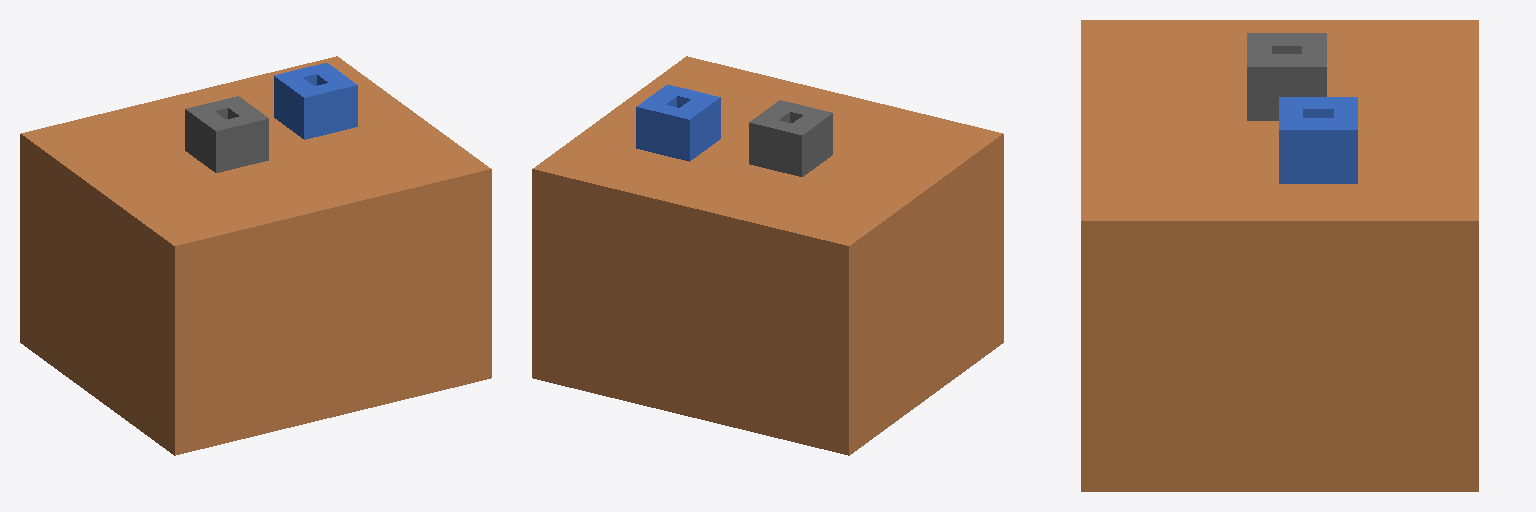
robot.urdf — peg_in_hole_fixtured_scene_0028_peg0016_tol01:
<?xml version="1.0"?>
<robot name="peg_in_hole_fixtured_scene_0028_peg0016_tol01">
  <material name="wood"><color rgba="0.82 0.56 0.35 1.0"/></material>
  <material name="start_fix"><color rgba="0.30 0.50 0.85 1.0"/></material>
  <material name="goal_fix"><color rgba="0.4706 0.4706 0.4706 1.0"/></material>
  <link name="box">
    <visual>
      <origin xyz="0.000000 0.000000 0.000000" rpy="0 0 0"/>
      <geometry><box size="0.475000 0.400000 0.300000"/></geometry>
      <material name="wood"/>
    </visual>
    <collision>
      <origin xyz="0.000000 0.000000 0.000000" rpy="0 0 0"/>
      <geometry><box size="0.475000 0.400000 0.300000"/></geometry>
    </collision>
    <visual>
      <origin xyz="0.111818 0.038647 0.155000" rpy="0 0 0"/>
      <geometry><box size="0.080000 0.080000 0.010000"/></geometry>
      <material name="start_fix"/>
    </visual>
    <collision>
      <origin xyz="0.111818 0.038647 0.155000" rpy="0 0 0"/>
      <geometry><box size="0.080000 0.080000 0.010000"/></geometry>
    </collision>
    <visual>
      <origin xyz="0.137068 0.038647 0.185000" rpy="0 0 0"/>
      <geometry><box size="0.029500 0.080000 0.050000"/></geometry>
      <material name="start_fix"/>
    </visual>
    <collision>
      <origin xyz="0.137068 0.038647 0.185000" rpy="0 0 0"/>
      <geometry><box size="0.029500 0.080000 0.050000"/></geometry>
    </collision>
    <visual>
      <origin xyz="0.086568 0.038647 0.185000" rpy="0 0 0"/>
      <geometry><box size="0.029500 0.080000 0.050000"/></geometry>
      <material name="start_fix"/>
    </visual>
    <collision>
      <origin xyz="0.086568 0.038647 0.185000" rpy="0 0 0"/>
      <geometry><box size="0.029500 0.080000 0.050000"/></geometry>
    </collision>
    <visual>
      <origin xyz="0.111818 0.066397 0.185000" rpy="0 0 0"/>
      <geometry><box size="0.021000 0.024500 0.050000"/></geometry>
      <material name="start_fix"/>
    </visual>
    <collision>
      <origin xyz="0.111818 0.066397 0.185000" rpy="0 0 0"/>
      <geometry><box size="0.021000 0.024500 0.050000"/></geometry>
    </collision>
    <visual>
      <origin xyz="0.111818 0.010897 0.185000" rpy="0 0 0"/>
      <geometry><box size="0.021000 0.024500 0.050000"/></geometry>
      <material name="start_fix"/>
    </visual>
    <collision>
      <origin xyz="0.111818 0.010897 0.185000" rpy="0 0 0"/>
      <geometry><box size="0.021000 0.024500 0.050000"/></geometry>
    </collision>
    <visual>
      <origin xyz="-0.038840 0.007097 0.155000" rpy="0 0 0"/>
      <geometry><box size="0.080000 0.080000 0.010000"/></geometry>
      <material name="goal_fix"/>
    </visual>
    <collision>
      <origin xyz="-0.038840 0.007097 0.155000" rpy="0 0 0"/>
      <geometry><box size="0.080000 0.080000 0.010000"/></geometry>
    </collision>
    <visual>
      <origin xyz="-0.013741 0.007097 0.185000" rpy="0 0 0"/>
      <geometry><box size="0.029802 0.080000 0.050000"/></geometry>
      <material name="goal_fix"/>
    </visual>
    <collision>
      <origin xyz="-0.013741 0.007097 0.185000" rpy="0 0 0"/>
      <geometry><box size="0.029802 0.080000 0.050000"/></geometry>
    </collision>
    <visual>
      <origin xyz="-0.063939 0.007097 0.185000" rpy="0 0 0"/>
      <geometry><box size="0.029802 0.080000 0.050000"/></geometry>
      <material name="goal_fix"/>
    </visual>
    <collision>
      <origin xyz="-0.063939 0.007097 0.185000" rpy="0 0 0"/>
      <geometry><box size="0.029802 0.080000 0.050000"/></geometry>
    </collision>
    <visual>
      <origin xyz="-0.038840 0.034696 0.185000" rpy="0 0 0"/>
      <geometry><box size="0.020397 0.024802 0.050000"/></geometry>
      <material name="goal_fix"/>
    </visual>
    <collision>
      <origin xyz="-0.038840 0.034696 0.185000" rpy="0 0 0"/>
      <geometry><box size="0.020397 0.024802 0.050000"/></geometry>
    </collision>
    <visual>
      <origin xyz="-0.038840 -0.020502 0.185000" rpy="0 0 0"/>
      <geometry><box size="0.020397 0.024802 0.050000"/></geometry>
      <material name="goal_fix"/>
    </visual>
    <collision>
      <origin xyz="-0.038840 -0.020502 0.185000" rpy="0 0 0"/>
      <geometry><box size="0.020397 0.024802 0.050000"/></geometry>
    </collision>
    <inertial>
      <mass value="500"/>
      <friction value="1.0"/>
      <inertia ixx="1000.0" ixy="0.0" ixz="0.0" iyy="1000.0" iyz="0.0" izz="1000.0"/>
    </inertial>
  </link>
</robot>

--- What the picture shows (computed from the rendered views, not written in the file) ---
The picture shows the robot from 3 angles, left to right: view 1: azimuth 30°, elevation 25°; view 2: azimuth 150°, elevation 25°; view 3: azimuth 270°, elevation 25°; orthographic projection.
Model peg_in_hole_fixtured_scene_0028_peg0016_tol01 with 1 links and 0 joints (none), rooted at box, posed all joints at 0.
Links seen in each view (by area): view 1: box; view 2: box; view 3: box.
Boxes of the visible links, left/top/right/bottom form: box: left=20, top=56, right=491, bottom=455; box: left=532, top=56, right=1003, bottom=455; box: left=1081, top=20, right=1478, bottom=491.
Bounding box of the posed robot: 0.475 × 0.4 × 0.36 m (x, y, z).
Geometry: primitives only (box / cylinder / sphere), no mesh files.
